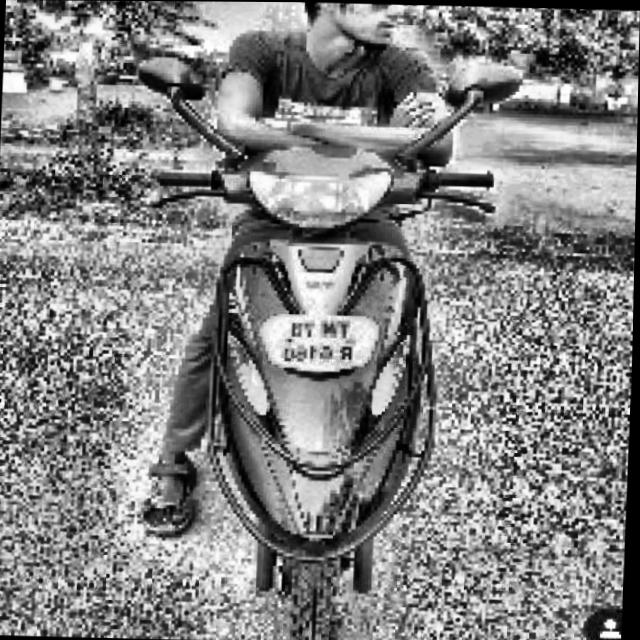motorcycle: (111, 49, 535, 640)
